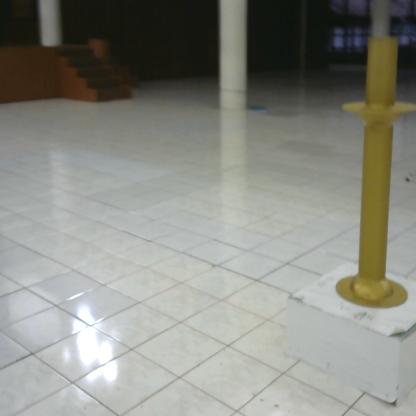pole: (326, 27, 416, 327)
